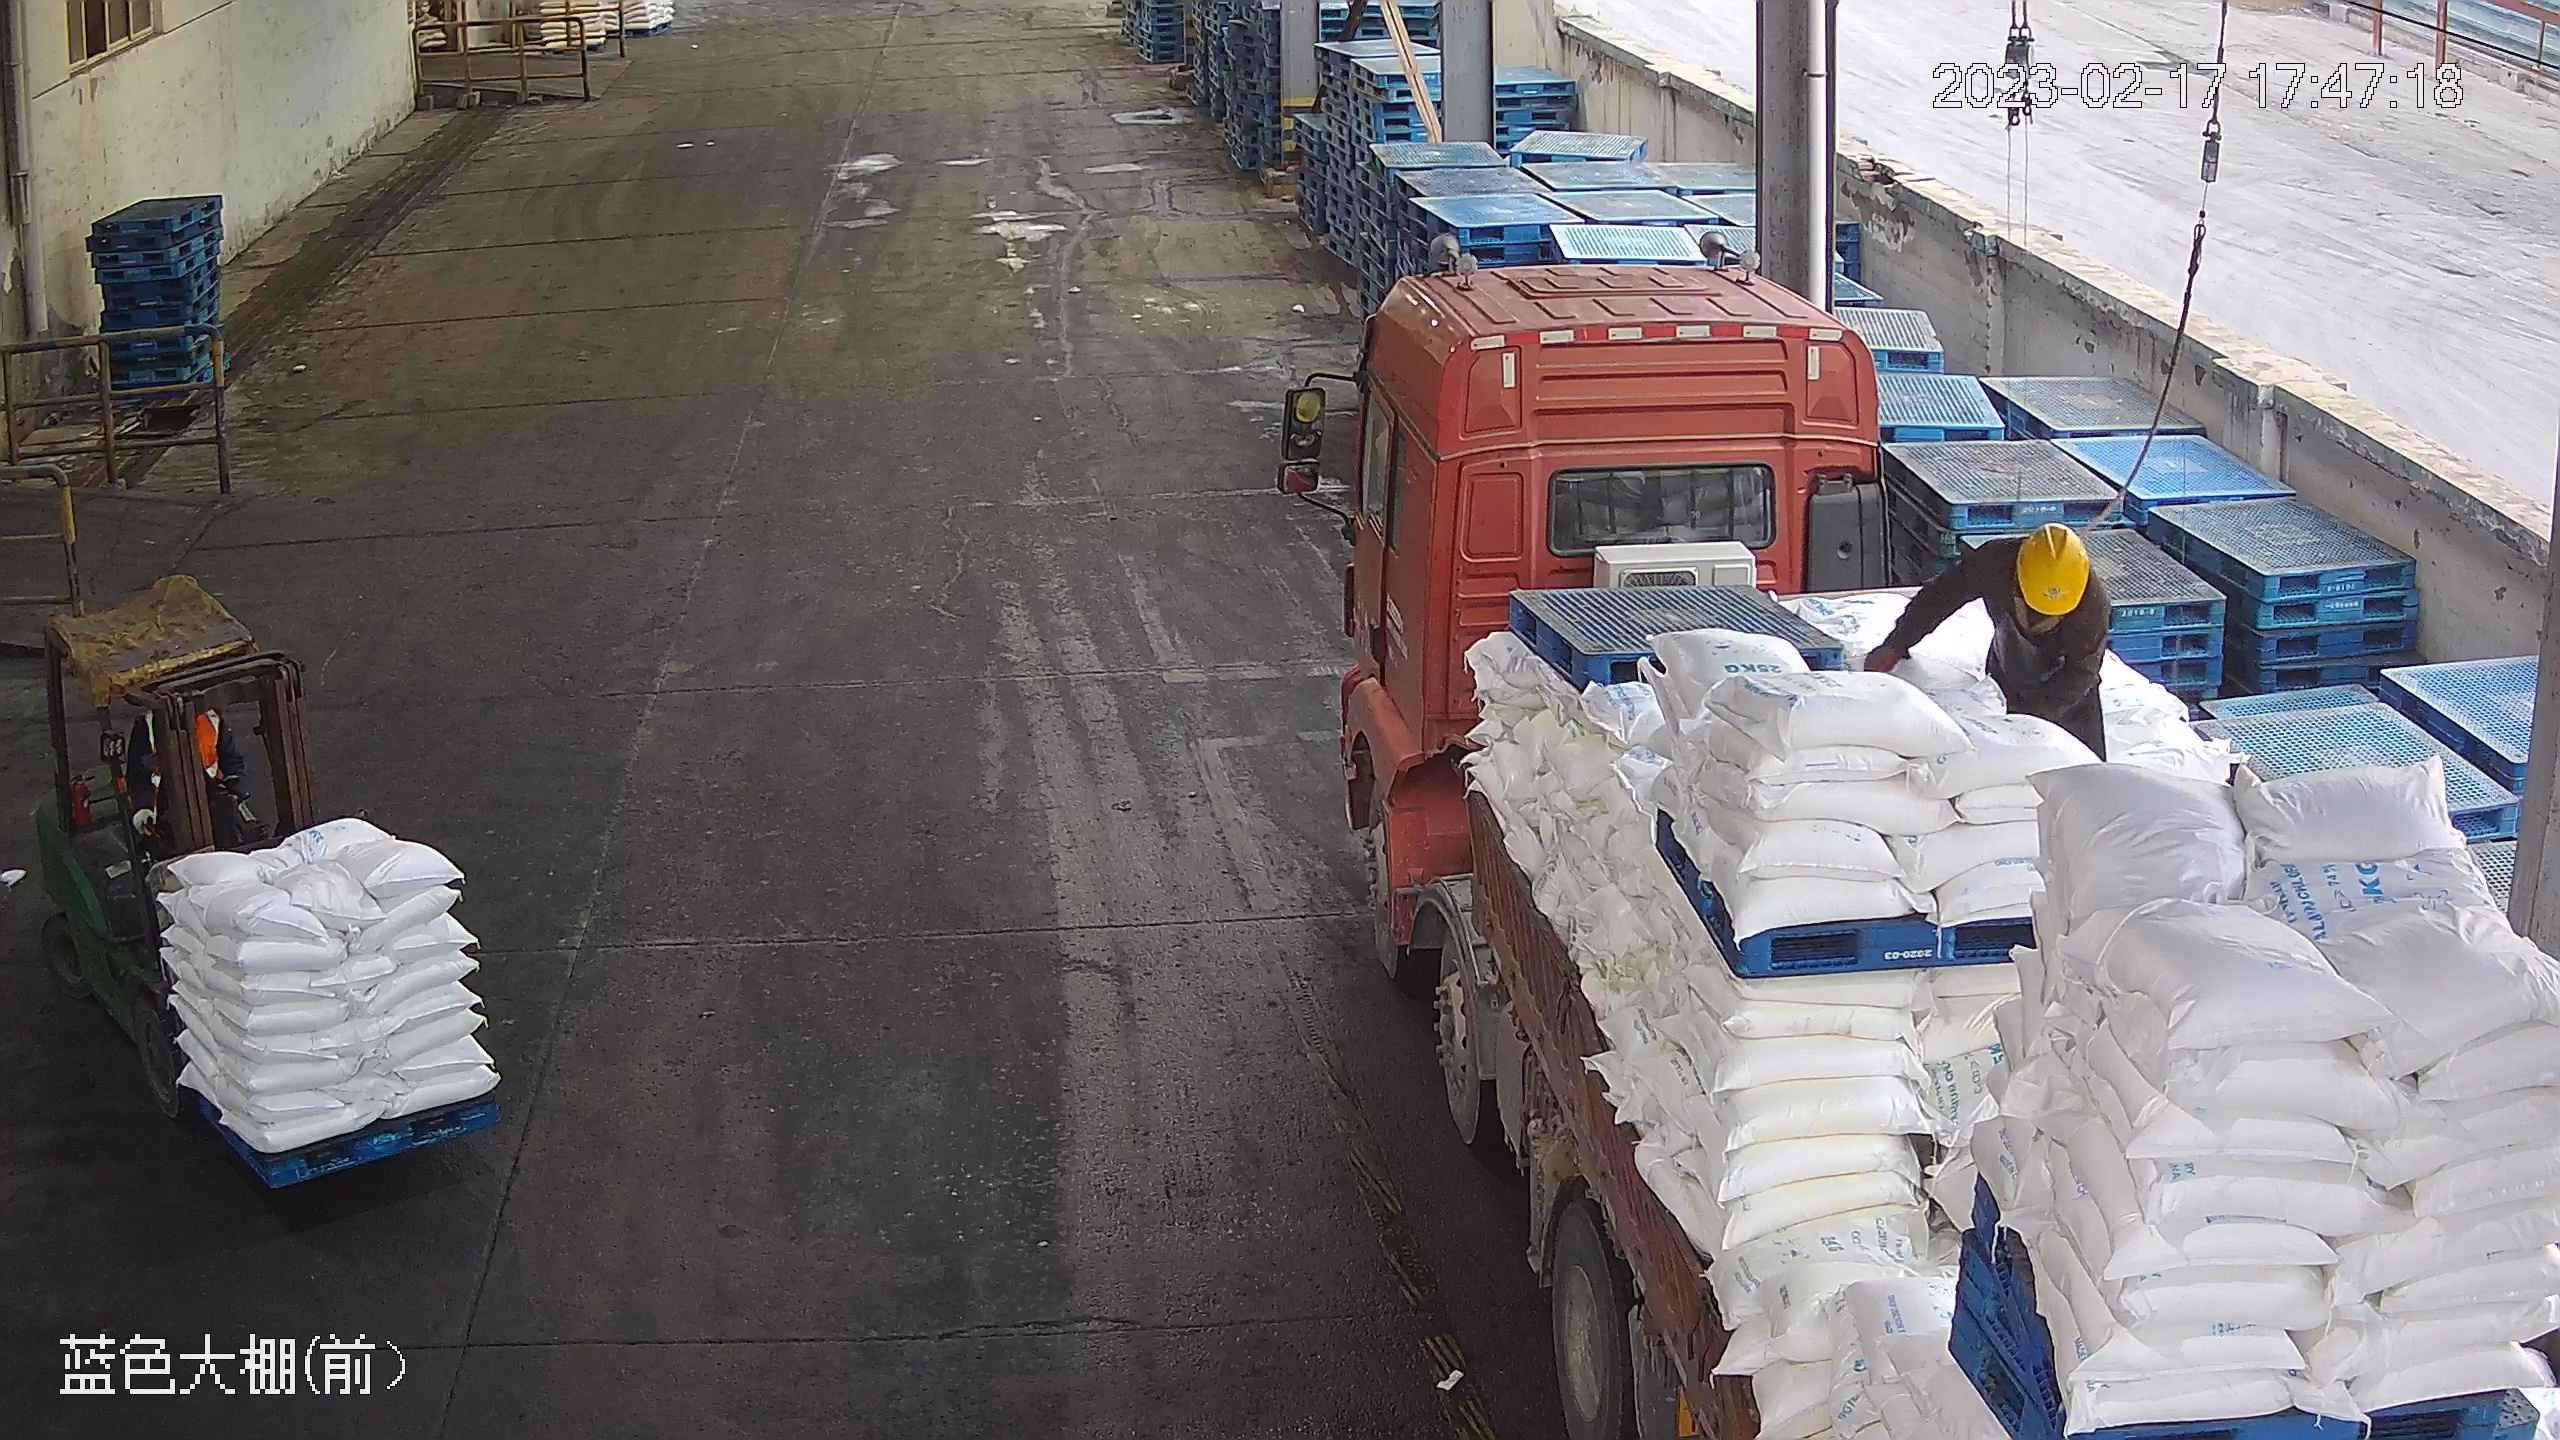head: (1974, 525, 2108, 631)
helmet: (2019, 524, 2089, 613)
people: (1860, 522, 2112, 764)
truck: (1283, 250, 2560, 1440)
